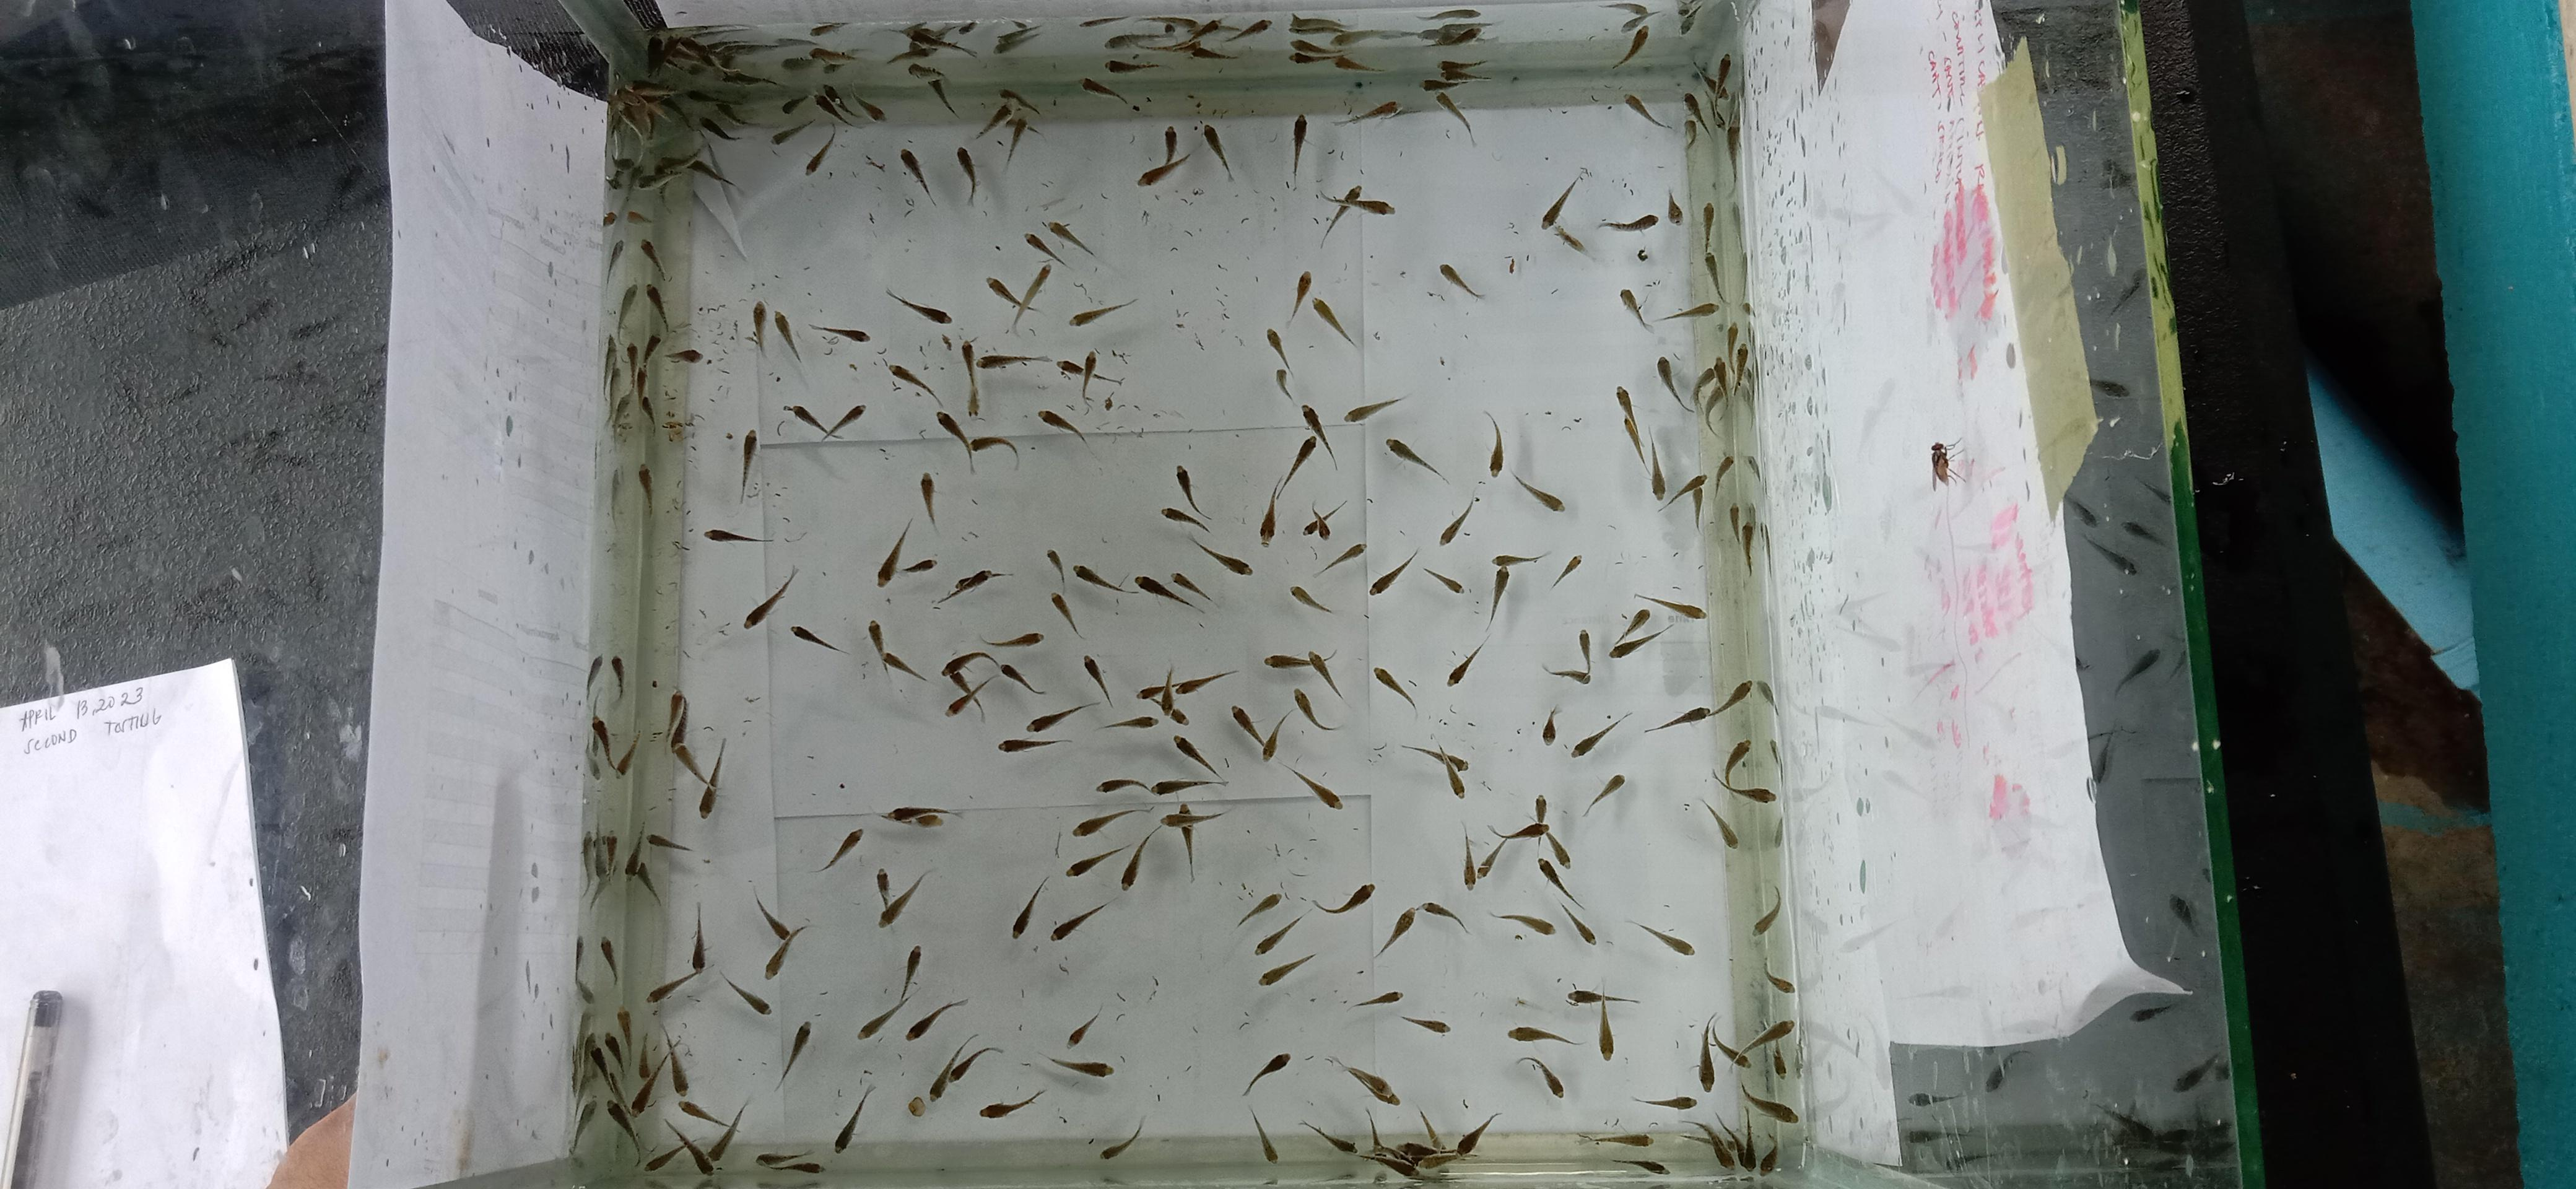fish: (601, 235, 670, 440), (582, 654, 642, 879), (637, 148, 749, 263), (1288, 16, 1487, 79), (613, 80, 749, 145), (808, 18, 979, 67), (652, 33, 780, 97), (1102, 15, 1273, 62), (665, 690, 721, 818), (646, 902, 710, 1005), (1028, 654, 1112, 732), (586, 654, 639, 778), (1258, 435, 1318, 544), (609, 240, 670, 342), (858, 944, 922, 1040), (1492, 793, 1572, 869), (603, 333, 659, 438), (585, 1040, 639, 1146), (1643, 680, 1753, 732), (1615, 386, 1666, 499), (1137, 665, 1237, 723), (1564, 985, 1640, 1059), (779, 80, 887, 131), (1649, 435, 1707, 530), (1288, 269, 1357, 348), (976, 89, 1043, 169), (692, 169, 749, 263), (927, 1033, 1004, 1100), (624, 831, 692, 908), (1377, 900, 1467, 957), (935, 411, 1019, 471), (752, 301, 810, 388), (1316, 184, 1393, 248), (941, 650, 1045, 696), (754, 897, 810, 980), (986, 263, 1051, 333), (1161, 803, 1222, 879), (1488, 550, 1551, 622), (1479, 815, 1551, 877), (1707, 1017, 1794, 1067), (876, 517, 936, 590), (636, 148, 734, 192), (1577, 1130, 1671, 1176), (1733, 343, 1764, 478), (659, 348, 703, 442), (1263, 650, 1345, 700), (590, 875, 626, 985), (866, 619, 928, 682), (770, 118, 838, 176), (1326, 1054, 1400, 1105), (1403, 742, 1469, 798), (1230, 705, 1291, 764), (1364, 1112, 1416, 1179), (613, 82, 672, 141), (1188, 18, 1272, 59), (743, 565, 795, 629), (1597, 179, 1661, 232), (585, 655, 613, 775), (1056, 350, 1124, 399), (876, 869, 931, 928), (1608, 608, 1671, 659), (785, 402, 866, 442), (933, 568, 1009, 609), (831, 1086, 876, 1155), (662, 1122, 715, 1179), (1725, 1113, 1774, 1174), (1385, 437, 1447, 484), (591, 716, 639, 778), (1288, 39, 1378, 72), (659, 33, 728, 76), (1137, 667, 1188, 724), (1104, 18, 1198, 49), (1046, 547, 1079, 636), (1460, 823, 1505, 888), (583, 1035, 628, 1100), (1571, 711, 1633, 757), (614, 282, 667, 337), (1681, 1118, 1736, 1169), (907, 62, 958, 117), (1543, 629, 1592, 685), (603, 337, 631, 435), (629, 1046, 669, 1115), (639, 240, 670, 327), (1071, 806, 1153, 839), (905, 998, 968, 1041), (858, 992, 913, 1040), (1134, 575, 1201, 614), (1626, 920, 1695, 957), (1536, 857, 1585, 910), (1658, 473, 1705, 527), (1286, 765, 1342, 811), (1037, 407, 1092, 453), (1615, 386, 1646, 468), (1096, 777, 1226, 796), (1694, 360, 1728, 434), (657, 1018, 690, 1095), (1705, 53, 1738, 130), (782, 46, 859, 79), (1119, 824, 1158, 888), (1368, 547, 1419, 596), (775, 1021, 812, 1090), (907, 23, 976, 59), (1010, 874, 1048, 939), (1738, 1084, 1797, 1125), (1173, 734, 1224, 782), (624, 846, 662, 910), (1311, 296, 1357, 348), (1705, 1015, 1751, 1067), (1316, 186, 1393, 217), (885, 289, 951, 325), (1175, 465, 1212, 527), (1050, 902, 1109, 941), (634, 335, 660, 424), (946, 675, 994, 723), (1301, 404, 1336, 470), (1193, 539, 1252, 576), (1656, 355, 1694, 414), (1299, 1120, 1359, 1158), (1434, 90, 1475, 145), (1712, 770, 1776, 805), (1421, 57, 1485, 92), (1028, 701, 1099, 732), (697, 739, 724, 818), (1372, 665, 1416, 714), (1265, 327, 1295, 401), (1253, 913, 1304, 956), (1293, 688, 1344, 731), (935, 411, 973, 468), (644, 969, 701, 1007), (889, 363, 941, 404), (1045, 218, 1097, 259), (1396, 1141, 1459, 1176), (1702, 202, 1723, 302), (1257, 951, 1316, 987), (816, 826, 862, 872), (582, 829, 619, 885), (721, 974, 770, 1017), (1066, 844, 1130, 877), (678, 1099, 743, 1132), (979, 1087, 1046, 1118), (1439, 494, 1480, 545), (899, 148, 935, 205), (1311, 882, 1373, 915), (1541, 176, 1579, 230), (603, 1099, 641, 1153), (941, 650, 1000, 685), (1242, 1053, 1290, 1095), (1301, 498, 1349, 540), (1515, 1056, 1564, 1097), (1633, 593, 1705, 621), (1513, 473, 1564, 512), (1456, 1112, 1500, 1156), (1582, 772, 1625, 818), (1099, 1117, 1145, 1159), (1508, 793, 1551, 839), (1377, 907, 1416, 956), (1137, 151, 1193, 186), (754, 1151, 823, 1179), (1306, 649, 1344, 700), (813, 84, 858, 126), (1201, 123, 1234, 181), (1069, 299, 1137, 327), (1644, 705, 1712, 732), (1079, 76, 1134, 110), (1700, 800, 1738, 849), (958, 338, 981, 419), (790, 624, 848, 655), (698, 105, 747, 141), (1418, 902, 1469, 936), (1023, 230, 1068, 269), (1446, 642, 1485, 686), (1237, 892, 1283, 930), (1623, 92, 1669, 130), (672, 741, 710, 787), (1743, 1018, 1796, 1051), (997, 659, 1045, 695), (969, 435, 1019, 470), (1733, 506, 1758, 575), (1344, 396, 1405, 424), (1073, 562, 1127, 593), (772, 309, 803, 363), (1365, 1148, 1419, 1179), (660, 325, 703, 365), (1612, 25, 1649, 69), (885, 806, 958, 829), (754, 895, 790, 941), (1045, 1054, 1112, 1079), (1697, 1013, 1718, 1090), (994, 20, 1042, 54), (1161, 803, 1224, 829), (754, 1166, 825, 1189), (1437, 263, 1482, 299), (1176, 668, 1237, 695), (1081, 654, 1112, 705), (1000, 118, 1032, 169), (1230, 705, 1265, 751), (1318, 542, 1365, 575), (1250, 1110, 1280, 1163), (1492, 911, 1554, 936), (1170, 572, 1214, 606), (1506, 1025, 1577, 1046), (885, 557, 936, 586), (1019, 264, 1050, 312), (1112, 974, 1160, 1005), (1712, 680, 1753, 716), (1180, 18, 1222, 53), (578, 1033, 606, 1086), (1566, 987, 1640, 1007), (999, 89, 1043, 122), (1483, 411, 1505, 478), (573, 936, 595, 1003), (1419, 23, 1482, 46), (882, 650, 928, 682), (1226, 18, 1272, 49), (976, 102, 1014, 140), (739, 430, 759, 503), (1561, 905, 1597, 944), (1753, 884, 1781, 934), (1260, 711, 1288, 762), (787, 404, 828, 438), (1319, 202, 1349, 250), (1288, 269, 1313, 325), (1288, 585, 1334, 614), (1050, 590, 1079, 636), (667, 690, 690, 749), (1160, 506, 1211, 532), (1032, 186, 1074, 217), (1722, 737, 1751, 782), (805, 131, 835, 176), (1416, 1109, 1446, 1153), (976, 351, 1048, 370), (986, 276, 1022, 312), (1066, 1010, 1101, 1048), (1288, 39, 1341, 64), (616, 282, 641, 335), (1290, 113, 1308, 184), (1620, 287, 1649, 330), (1488, 819, 1548, 841), (1056, 351, 1099, 381), (851, 89, 887, 123), (1681, 94, 1704, 148), (770, 120, 815, 148), (1656, 302, 1718, 322), (956, 146, 977, 204), (899, 944, 922, 997), (918, 471, 938, 532), (1488, 567, 1510, 622), (1549, 553, 1582, 590), (1460, 823, 1479, 888), (1617, 606, 1649, 642), (1598, 212, 1658, 232), (928, 77, 958, 117), (614, 731, 641, 775), (1152, 778, 1222, 795), (1258, 491, 1280, 545), (1423, 567, 1464, 594), (1477, 841, 1505, 882), (1350, 100, 1400, 123), (690, 902, 706, 971), (1288, 13, 1345, 33), (1649, 438, 1667, 501), (1424, 5, 1487, 23), (1160, 688, 1191, 724), (1544, 829, 1572, 869), (639, 240, 667, 279), (644, 831, 692, 854), (644, 282, 669, 327), (1704, 251, 1725, 302), (999, 737, 1065, 754), (705, 527, 770, 544), (982, 631, 1042, 649), (1732, 343, 1751, 397), (1316, 186, 1362, 209), (1398, 1140, 1444, 1163), (1713, 54, 1736, 100), (1079, 350, 1101, 399), (598, 936, 619, 985), (1327, 30, 1391, 46), (1439, 57, 1483, 80), (1175, 465, 1198, 509), (1728, 785, 1776, 806), (808, 46, 856, 67), (813, 325, 869, 343), (1104, 56, 1160, 74), (1597, 1005, 1615, 1061), (1751, 519, 1771, 570), (1577, 1133, 1653, 1146), (1712, 452, 1735, 494), (1334, 53, 1380, 74), (1543, 663, 1589, 685), (751, 301, 769, 355), (585, 655, 603, 709), (1099, 714, 1158, 731), (614, 1010, 634, 1059), (874, 869, 894, 918), (1552, 225, 1587, 253), (1349, 990, 1401, 1008), (1615, 1158, 1667, 1176), (1687, 476, 1705, 529), (603, 236, 624, 281), (1401, 1015, 1449, 1035), (670, 1048, 690, 1095), (1574, 629, 1592, 680), (1493, 550, 1549, 567), (1677, 0, 1704, 34), (889, 48, 935, 67), (1635, 1095, 1695, 1110), (1096, 778, 1150, 795), (609, 655, 626, 709), (1756, 1141, 1781, 1176), (1046, 547, 1066, 590), (780, 53, 820, 74), (1704, 202, 1720, 253), (1618, 5, 1651, 30), (580, 831, 596, 880), (866, 619, 885, 659), (1273, 366, 1295, 402), (1350, 197, 1393, 215), (1763, 969, 1794, 994), (1439, 514, 1464, 545), (1188, 44, 1234, 61), (905, 62, 946, 80), (1446, 764, 1467, 798), (1265, 654, 1309, 670), (1079, 13, 1129, 28), (1541, 706, 1559, 746), (1161, 125, 1180, 164), (1529, 793, 1549, 828), (636, 463, 652, 504), (810, 21, 851, 38), (1666, 189, 1684, 225), (1421, 76, 1457, 94), (780, 94, 810, 115), (573, 936, 586, 984), (665, 348, 703, 365), (1165, 701, 1189, 726), (900, 558, 936, 575), (621, 209, 654, 227), (1769, 1048, 1789, 1077), (1056, 358, 1084, 378), (1741, 453, 1761, 480), (1769, 815, 1784, 849), (1756, 680, 1774, 708), (905, 1095, 927, 1118), (1768, 739, 1782, 772), (864, 154, 885, 171), (1636, 246, 1653, 263)
